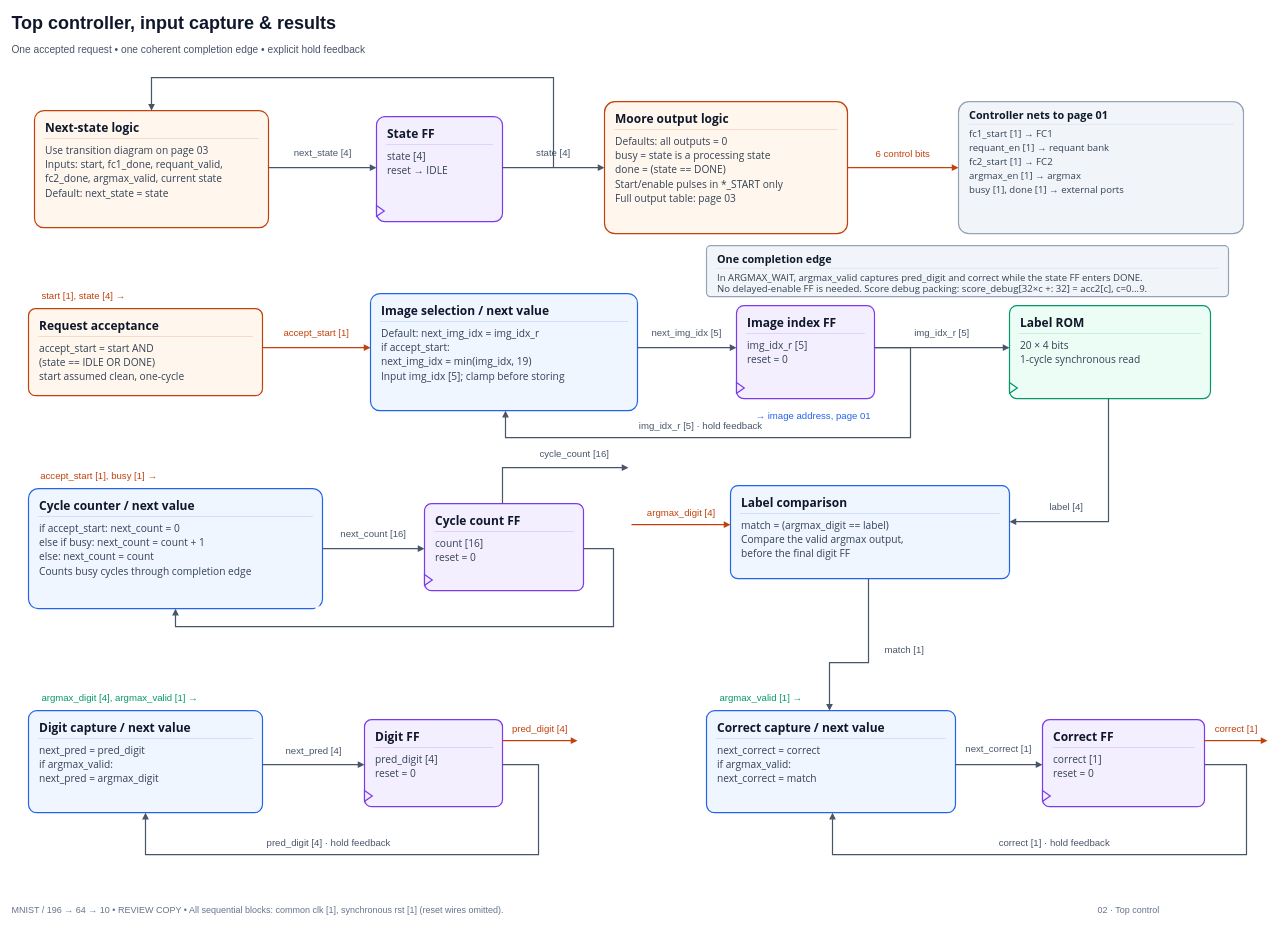
This 1283x927 diagram has some shape labels left out. The centre of each missing label's shape, as x and y in pixels:
count [16] · hold / increment feedback: the point at 412,614
state [4] · feedback: the point at 355,66
